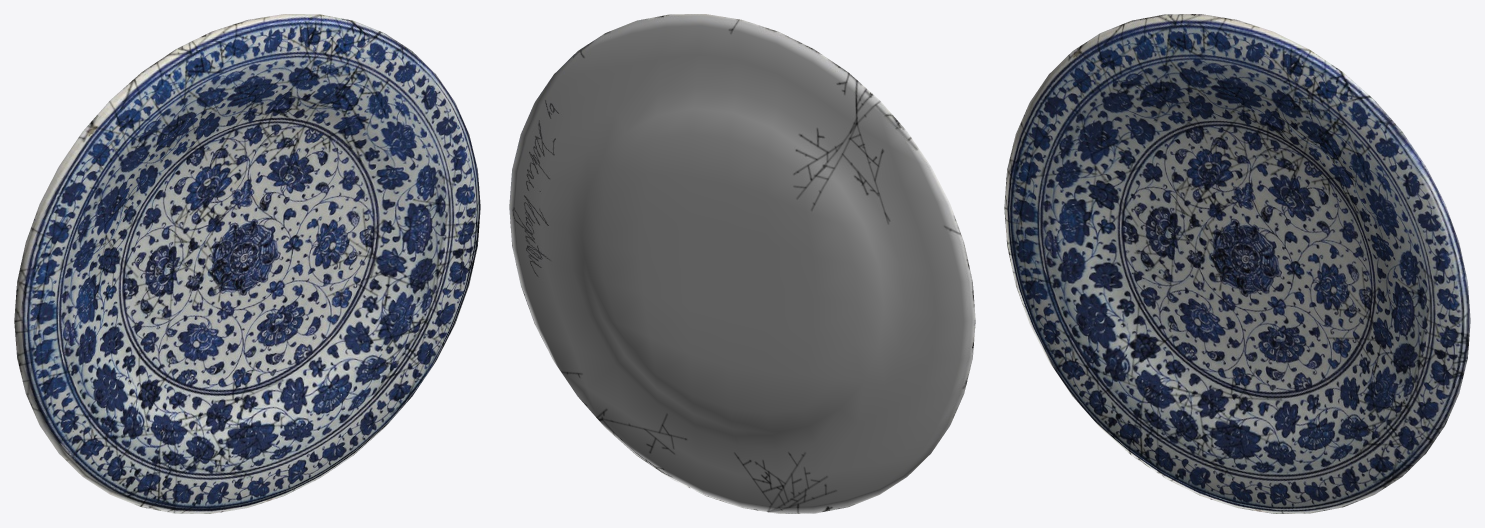
File: obj_qinghua_plate_with_cracks_fr_4357b5.glb
The picture shows the model from 3 angles, left to right: view 1: azimuth 30°, elevation 25°; view 2: azimuth 150°, elevation 25°; view 3: azimuth 330°, elevation 25°; orthographic projection.
Parts seen in each view (by area): view 1: obj_qinghua_plate_with_cracks_fr_4357b5; view 2: obj_qinghua_plate_with_cracks_fr_4357b5; view 3: obj_qinghua_plate_with_cracks_fr_4357b5.
Boxes of the visible parts, box(x1,y1,x2,y2) form: obj_qinghua_plate_with_cracks_fr_4357b5: box(14, 14, 480, 513); obj_qinghua_plate_with_cracks_fr_4357b5: box(509, 14, 975, 513); obj_qinghua_plate_with_cracks_fr_4357b5: box(1004, 14, 1470, 513).
Bounding box in the file's own units: 0.27 × 0.27 × 0.0192.
Materials: 1 (1 with a texture image).
